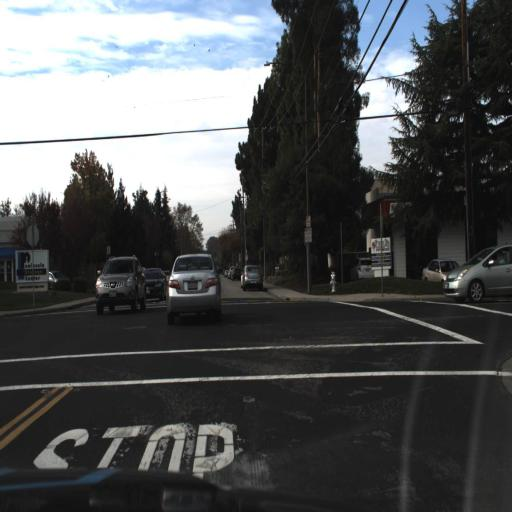car: (161, 236, 226, 329), (445, 229, 511, 317), (87, 245, 150, 318), (417, 243, 451, 299), (139, 254, 170, 308), (350, 244, 383, 287), (232, 258, 265, 297), (45, 261, 69, 297)
